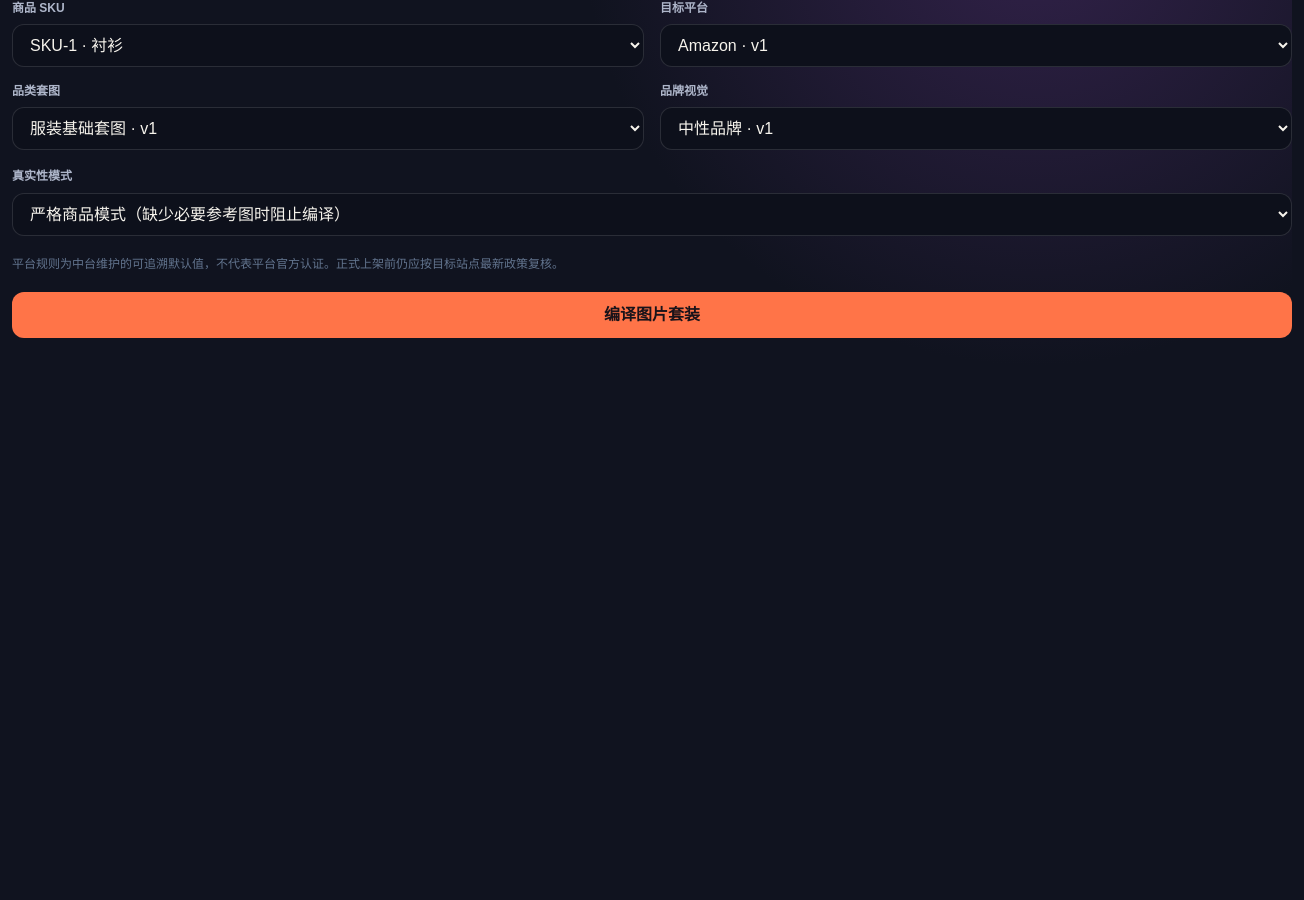
Test: previews platform-derived slots before execution
Select "Amazon · v1" in the dropdown labelled "目标平台" at (976,46), box 660,24 -> 1292,67
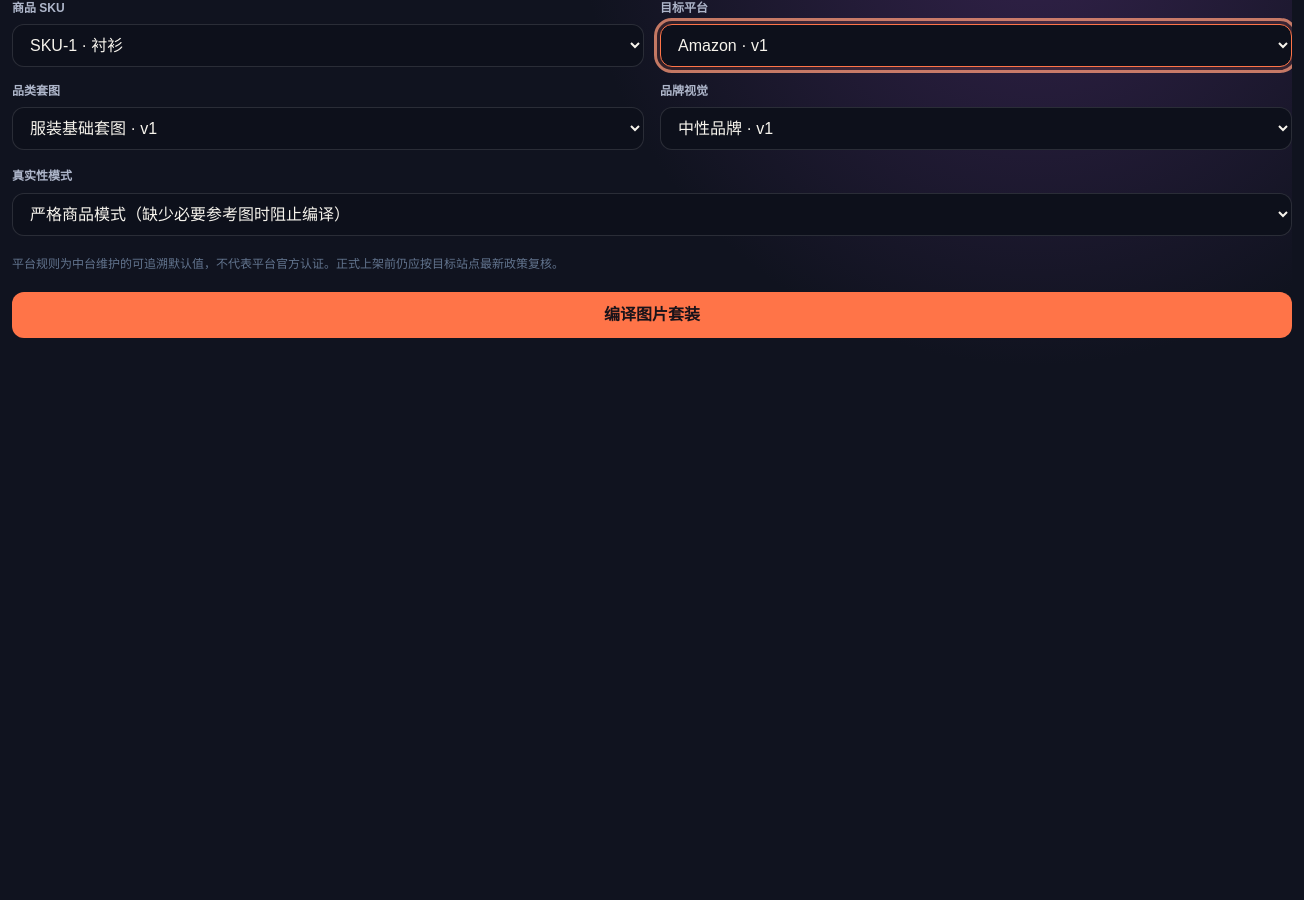
Click the button "编译图片套装" at (652,315), box 12,292 -> 1292,338
(page scrolled)
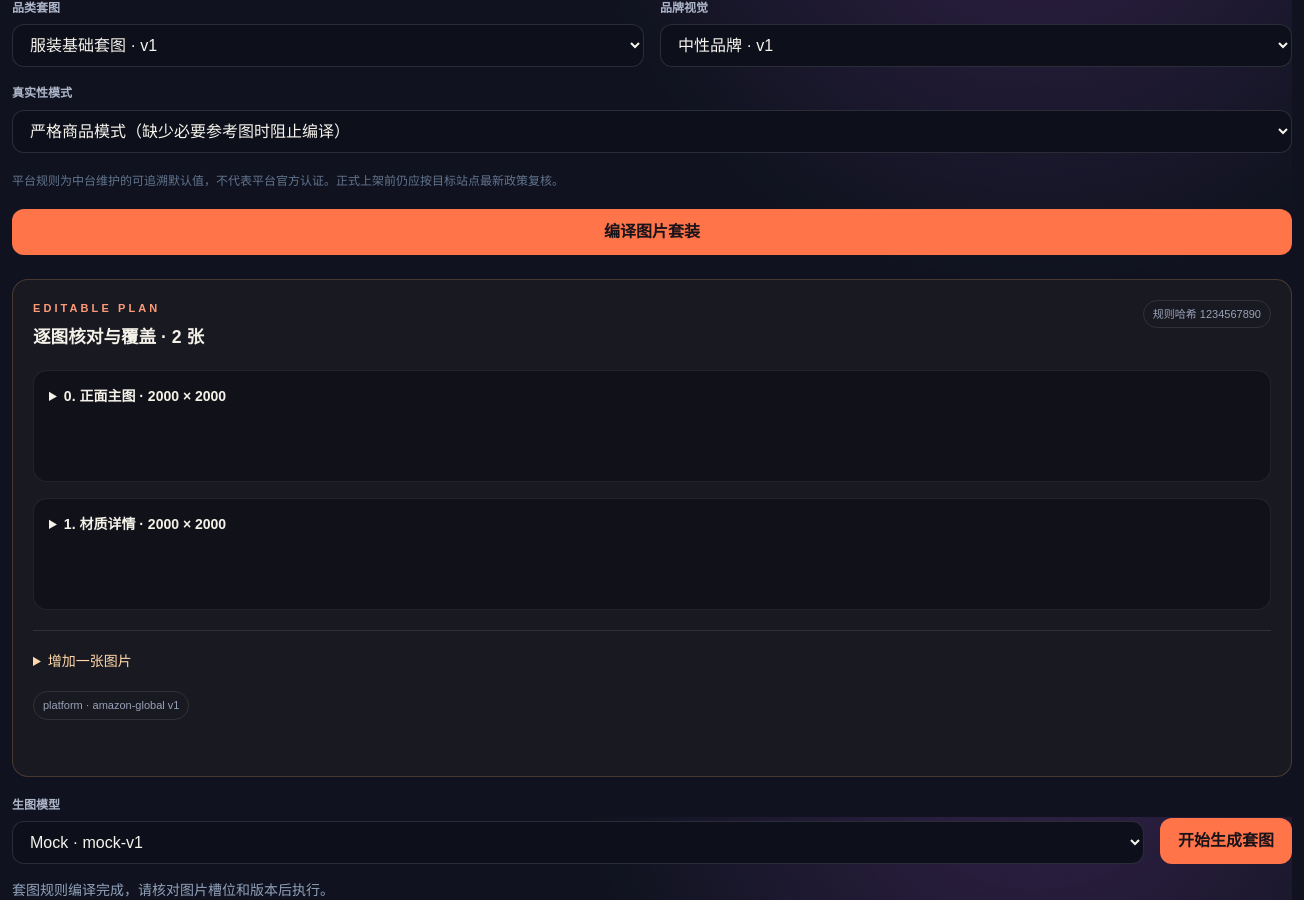
expect the heading "0. 正面主图 · 2000 × 2000" is shown: met, box 64,388 -> 226,404
expect the heading "1. 材质详情 · 2000 × 2000" is shown: met, box 64,516 -> 226,532
expect the button "开始生成套图" is enabled: met, box 1160,818 -> 1292,864
